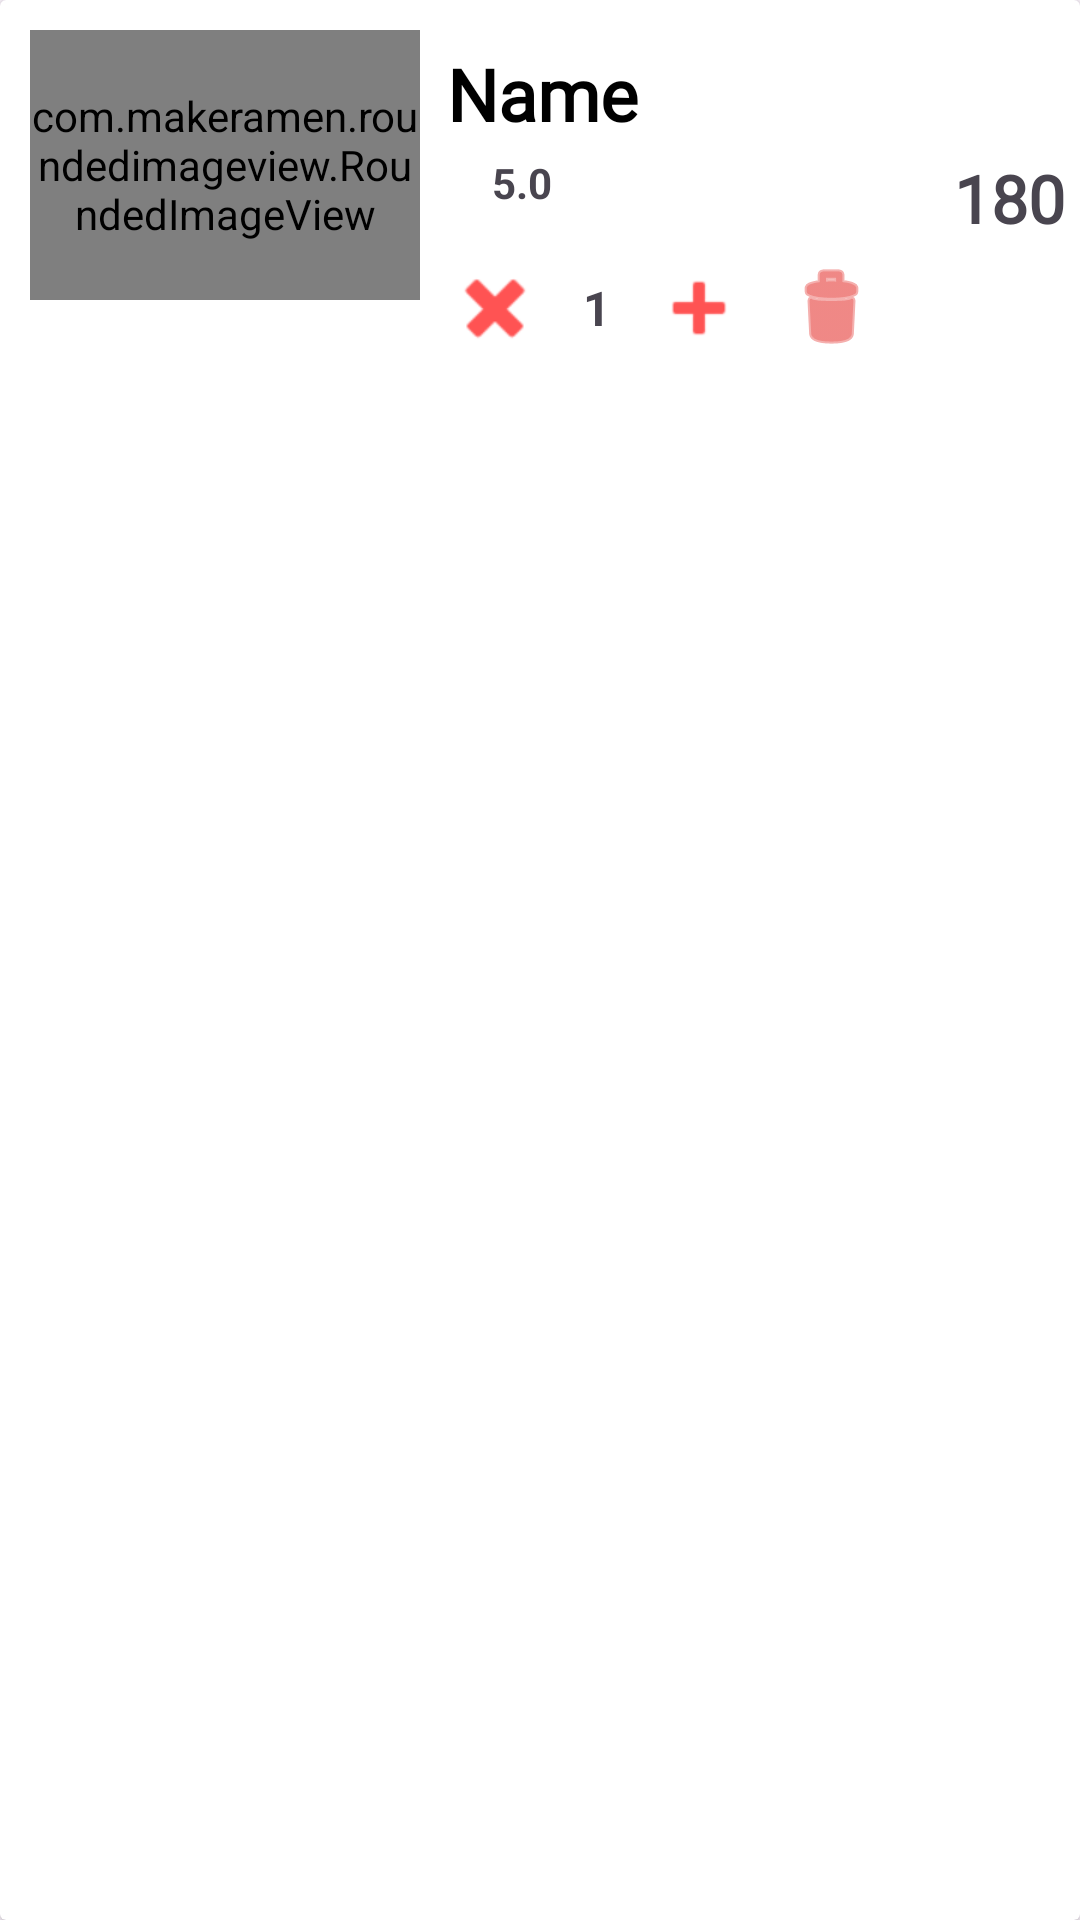

Named icons in this screenshot (1080w x 1920h) and their bounding boxes, (x1, y1, x2, y2):
Tăng số lượng: (672, 281, 726, 335)
Xóa khỏi giỏ: (804, 269, 859, 344)
